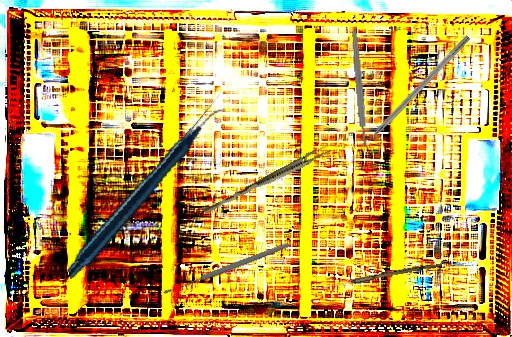Handpiece: (42, 108, 253, 279)
Hook Surgical: (353, 34, 472, 156)
Pusher: (75, 92, 224, 272)
Scalpel Handle: (350, 29, 369, 148)
Surgical Spoon: (162, 241, 291, 296), (320, 260, 443, 292)
Tissue Forceps: (202, 141, 332, 219)
